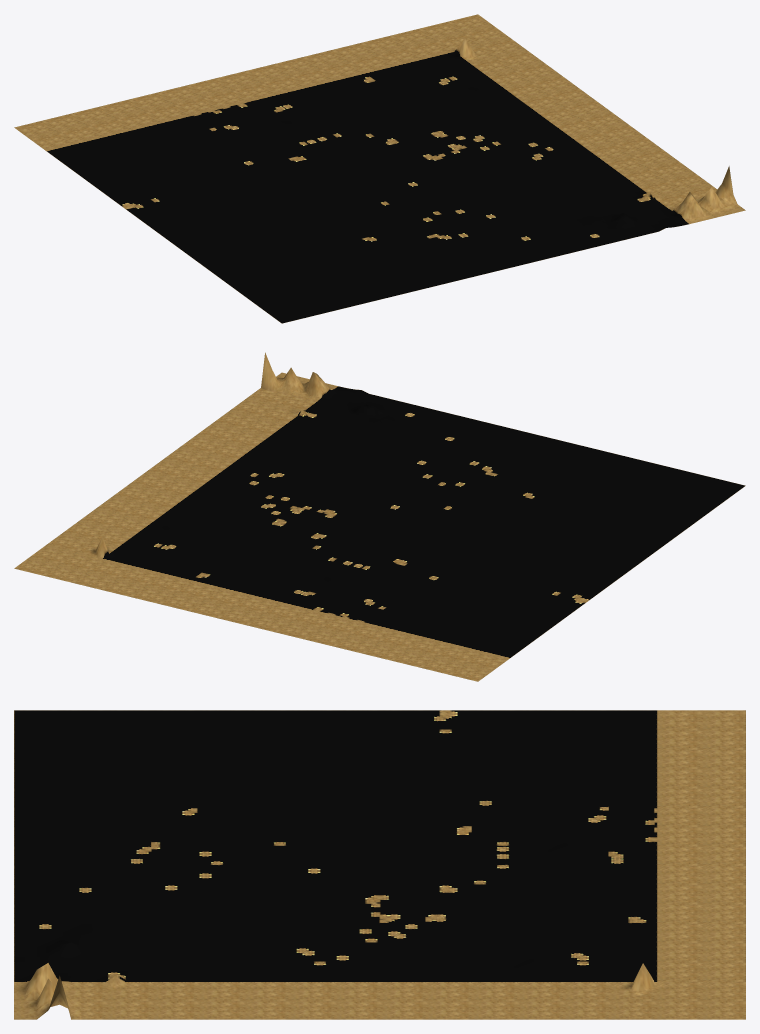
The model's file is terrain.glb.
3 views of the same model, one above another, from view 1: azimuth 30°, elevation 25°; view 2: azimuth 150°, elevation 25°; view 3: azimuth 270°, elevation 25° (orthographic). The views are drawn at different scales.
Visible parts, largest first — view 1: terrain_2_5; view 2: terrain_2_5; view 3: terrain_2_5.
Boxes of the visible parts, <box> form: terrain_2_5: <box>14,14,745,323</box>; terrain_2_5: <box>14,352,745,681</box>; terrain_2_5: <box>14,710,745,1019</box>.
Bounding box in the file's own units: 512 × 34.36 × 512.
1 material, 1 textured.
